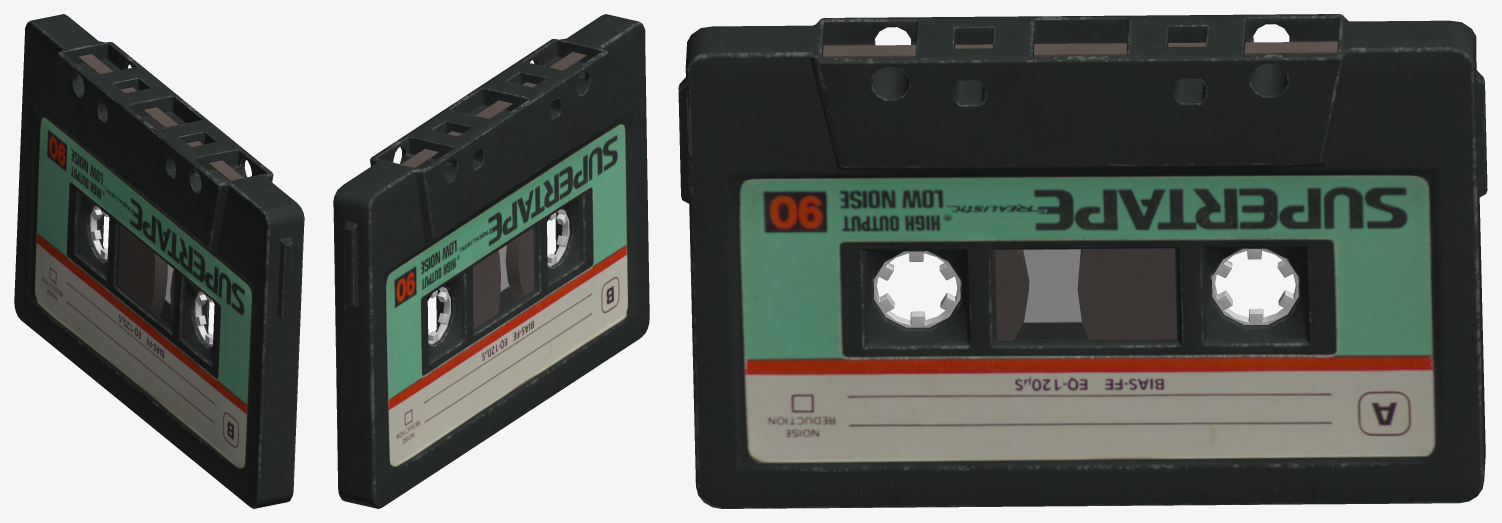
The model's file is cassete.glb.
The picture shows the model from 3 angles, left to right: view 1: azimuth 30°, elevation 25°; view 2: azimuth 150°, elevation 25°; view 3: azimuth 270°, elevation 25°; orthographic projection. The views are drawn at different scales.
Visible parts, largest first — view 1: Tape; view 2: Tape; view 3: Tape.
Part boxes in pixels (left/top/right/bottom): Tape: left=14, top=14, right=304, bottom=508; Tape: left=333, top=14, right=649, bottom=508; Tape: left=678, top=14, right=1487, bottom=508.
Bounding box in the file's own units: 0.0236 × 0.1098 × 0.1686.
1 material, 1 textured.
